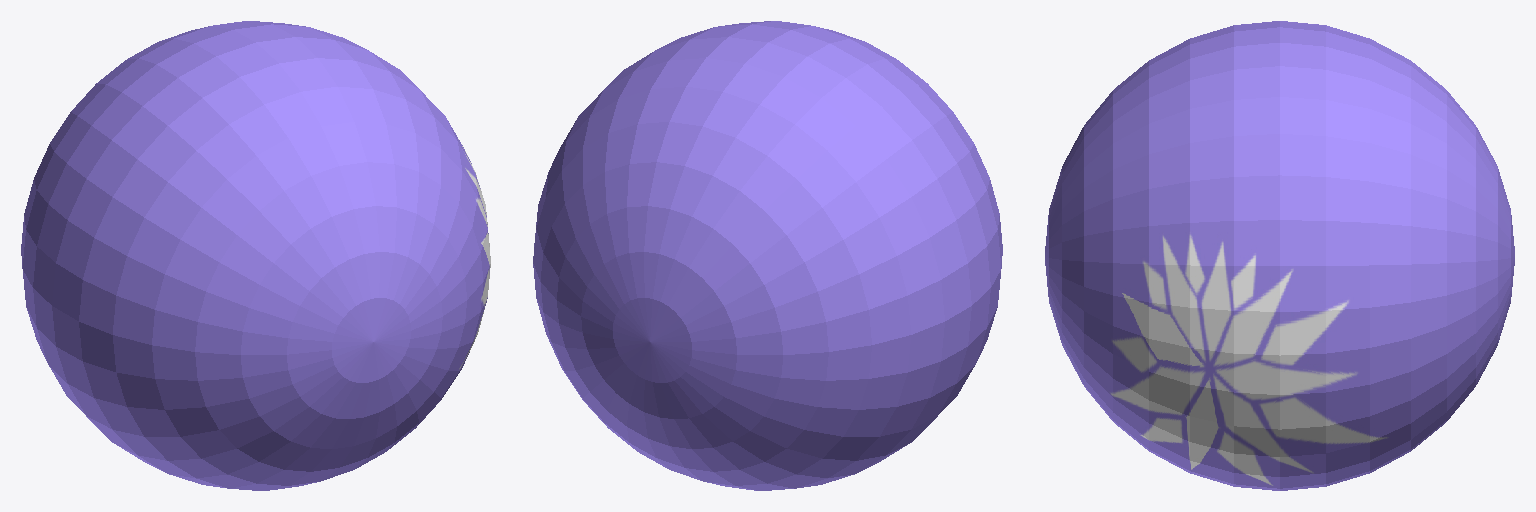
The picture shows the model from 3 angles: view 1: azimuth 30°, elevation 25°; view 2: azimuth 150°, elevation 25°; view 3: azimuth 270°, elevation 25°; orthographic projection.
Parts seen in each view (by area): view 1: Sphere001; view 2: Sphere001; view 3: Sphere001.
Part boxes in pixels (x1,y1,x2,y2): Sphere001: (21,21,490,490); Sphere001: (533,21,1002,490); Sphere001: (1045,21,1514,490).
Size of the model in its own units: 200 by 200 by 200.
Materials: 1 (1 with a texture image).